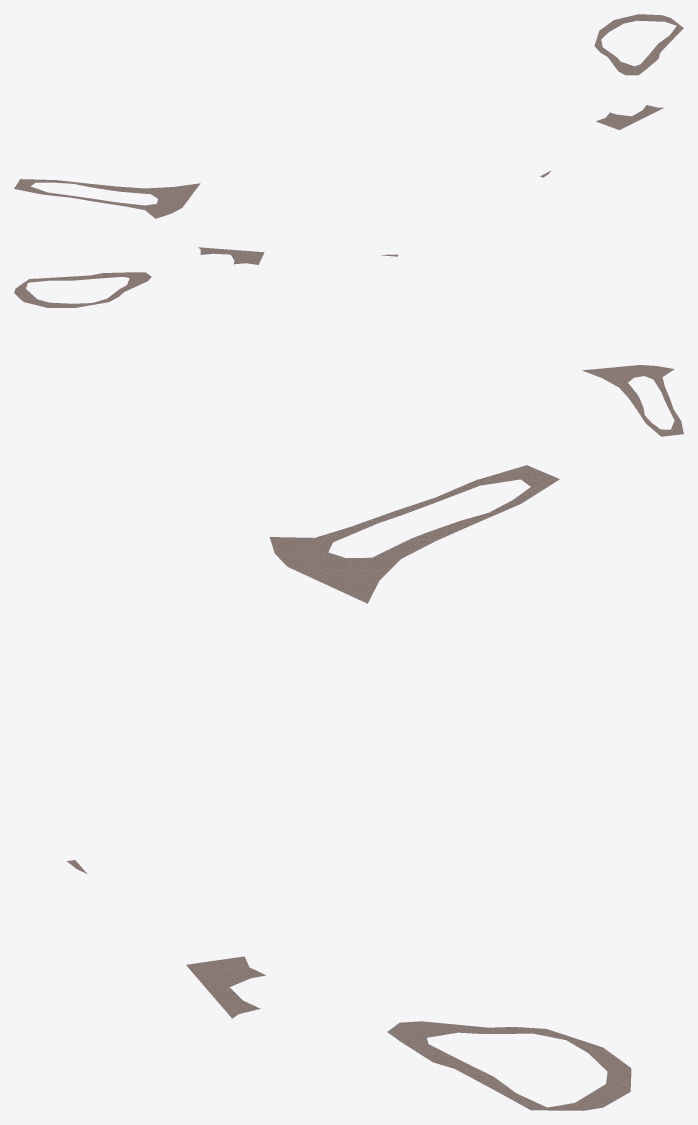
Rendered from kd_stage_135fe0_5_23_bounded.glb.
3 views of the same model, one above another, from view 1: azimuth 30°, elevation 25°; view 2: azimuth 150°, elevation 25°; view 3: azimuth 270°, elevation 25° (orthographic). The views are drawn at different scales.
Visible parts, largest first — view 1: kd_stage_135fe0_5_23_bounded; view 2: kd_stage_135fe0_5_23_bounded; view 3: kd_stage_135fe0_5_23_bounded.
Part boxes in pixels (x1,y1,x2,y2): kd_stage_135fe0_5_23_bounded: (14,14,683,218); kd_stage_135fe0_5_23_bounded: (14,247,683,436); kd_stage_135fe0_5_23_bounded: (67,465,631,1110).
Bounding box in the file's own units: 13.39 × 0.07 × 5.01.
Materials: 1 (1 with a texture image).
